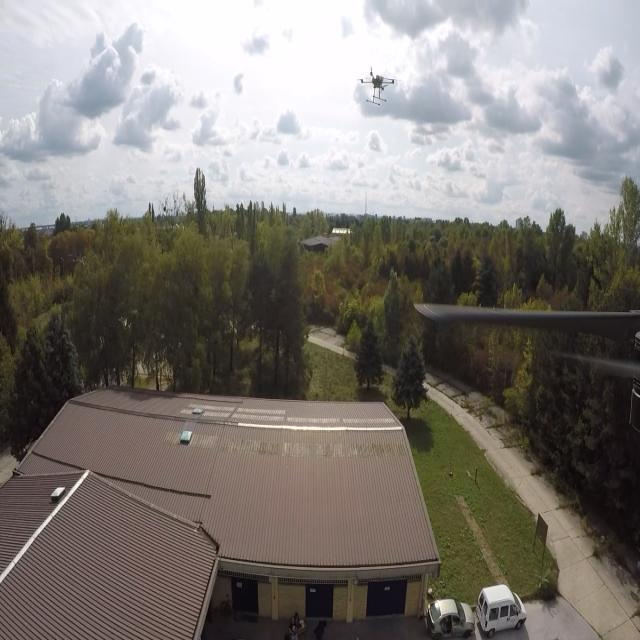UAV: (355, 60, 403, 109)
